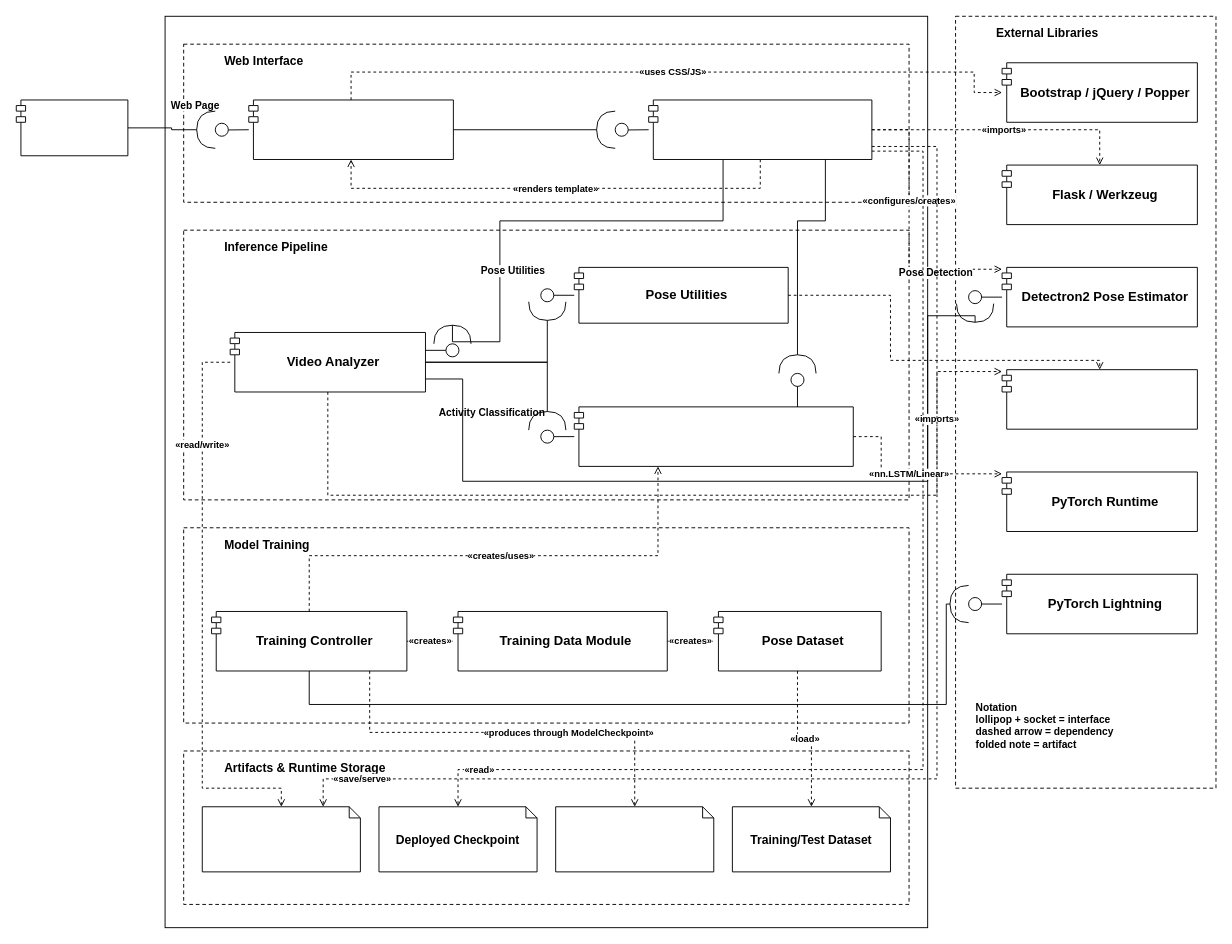
Some shapes in this 1232 by 944 pixel diagram are drawn without their labels. Each missing label, with the centre of its shape:
Activity Classification Model: the point at 713,436
Model Lifecycle: the point at 797,379
OpenCV Video Processing: the point at 1099,399
Training Checkpoint Output: the point at 634,839
Training Runtime: the point at 975,604
Uploaded & Result Videos: the point at 280,839
Video Analysis: the point at 452,350
Web Application Controller: the point at 760,129
Web Browser: the point at 71,127
Web Routes: the point at 621,129
Web User Interface: the point at 350,129
